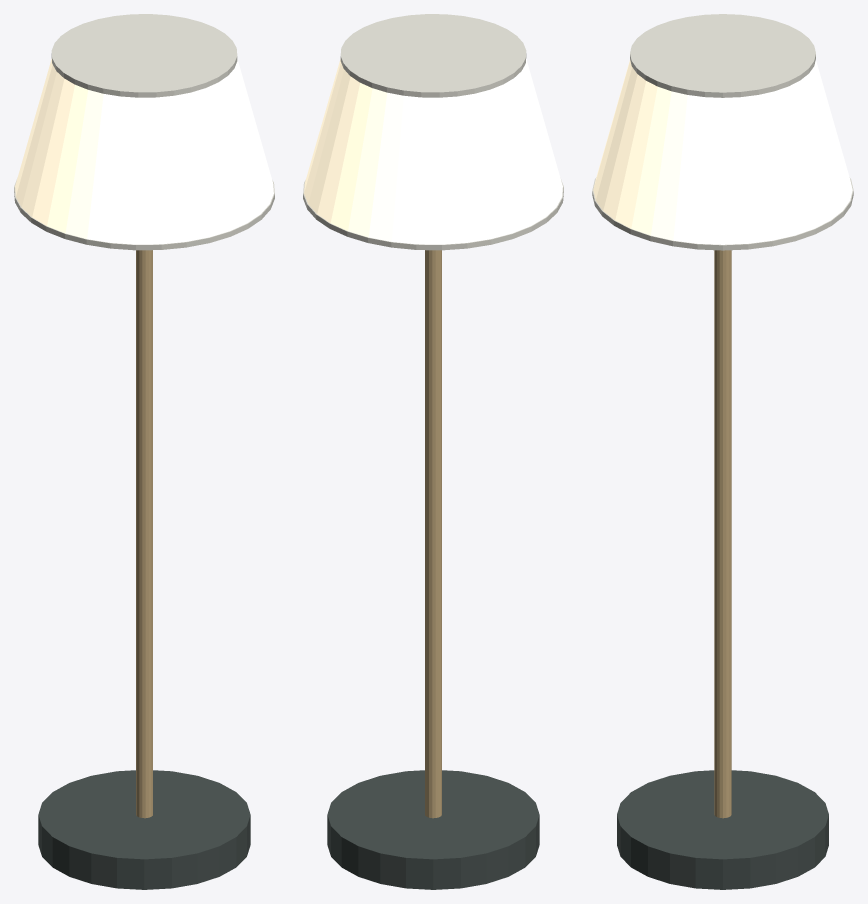
File: floor-lamp.glb
3 views of the same model, side by side, from view 1: azimuth 30°, elevation 25°; view 2: azimuth 150°, elevation 25°; view 3: azimuth 270°, elevation 25° (orthographic).
Parts seen in each view (by area): view 1: floor-lamp Lamp linen, Lamp base, floor-lamp Warm porcelain, Lamp stem; view 2: floor-lamp Lamp linen, Lamp base, floor-lamp Warm porcelain, Lamp stem; view 3: floor-lamp Lamp linen, Lamp base, floor-lamp Warm porcelain, Lamp stem.
Boxes of the visible parts, x1,y1,x2,y2 form: floor-lamp Lamp linen: [15, 59, 273, 244]; Lamp base: [38, 770, 250, 889]; floor-lamp Warm porcelain: [14, 14, 274, 250]; Lamp stem: [136, 250, 152, 818]; floor-lamp Lamp linen: [304, 59, 562, 244]; Lamp base: [327, 770, 539, 889]; floor-lamp Warm porcelain: [303, 14, 563, 250]; Lamp stem: [425, 250, 441, 818]; floor-lamp Lamp linen: [593, 60, 852, 244]; Lamp base: [617, 770, 828, 889]; floor-lamp Warm porcelain: [592, 14, 853, 250]; Lamp stem: [714, 250, 731, 818].
Bounding box in the file's own units: 0.542 × 1.81 × 0.542.
